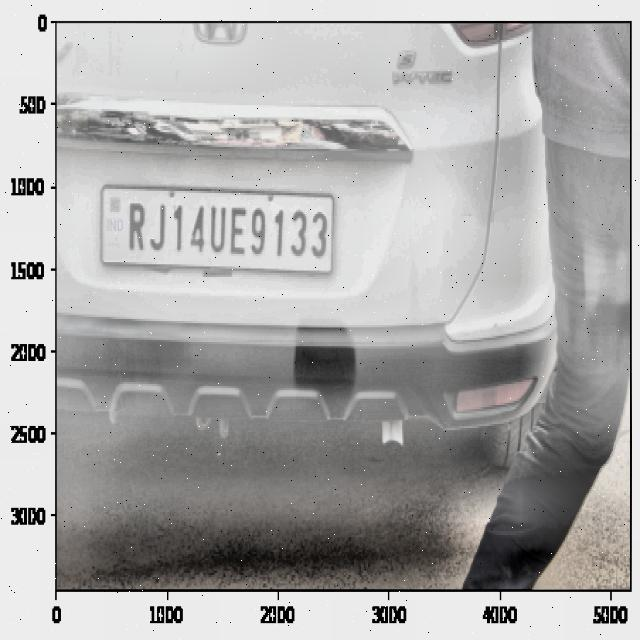license_plate: (118, 195, 332, 268)
